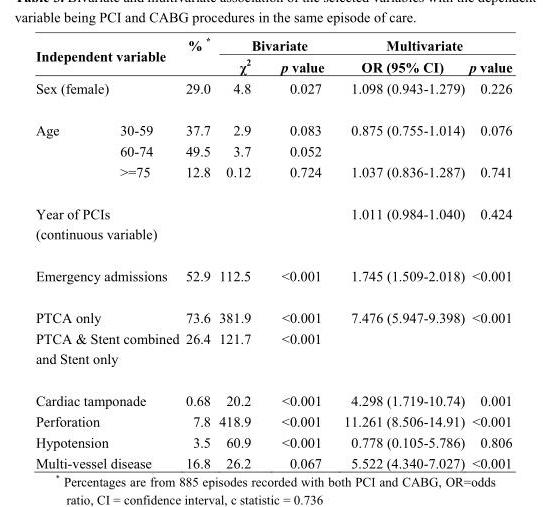table: (34, 34, 511, 470)
table column: (333, 34, 466, 470), (34, 34, 113, 470), (113, 34, 181, 470), (265, 34, 333, 470), (214, 34, 265, 470), (466, 34, 511, 470), (181, 34, 214, 470)
table column header: (34, 34, 511, 108)
table row: (34, 192, 511, 254), (34, 327, 511, 379), (34, 254, 511, 296), (34, 108, 511, 140), (34, 77, 511, 108), (34, 161, 511, 192), (34, 296, 511, 327), (34, 379, 511, 410), (34, 54, 511, 77), (34, 140, 511, 161), (34, 410, 511, 431), (34, 431, 511, 452), (34, 34, 511, 54), (34, 452, 511, 470)
table spanning cell: (34, 192, 181, 254), (34, 327, 181, 379), (333, 54, 466, 108), (34, 108, 113, 192), (34, 34, 181, 77), (34, 254, 181, 296), (34, 296, 181, 327), (34, 379, 181, 410), (265, 54, 333, 108), (333, 34, 511, 54), (34, 410, 181, 431), (34, 431, 181, 452), (214, 54, 265, 108), (34, 452, 181, 470), (181, 34, 214, 108), (466, 54, 511, 108), (214, 34, 333, 54)
